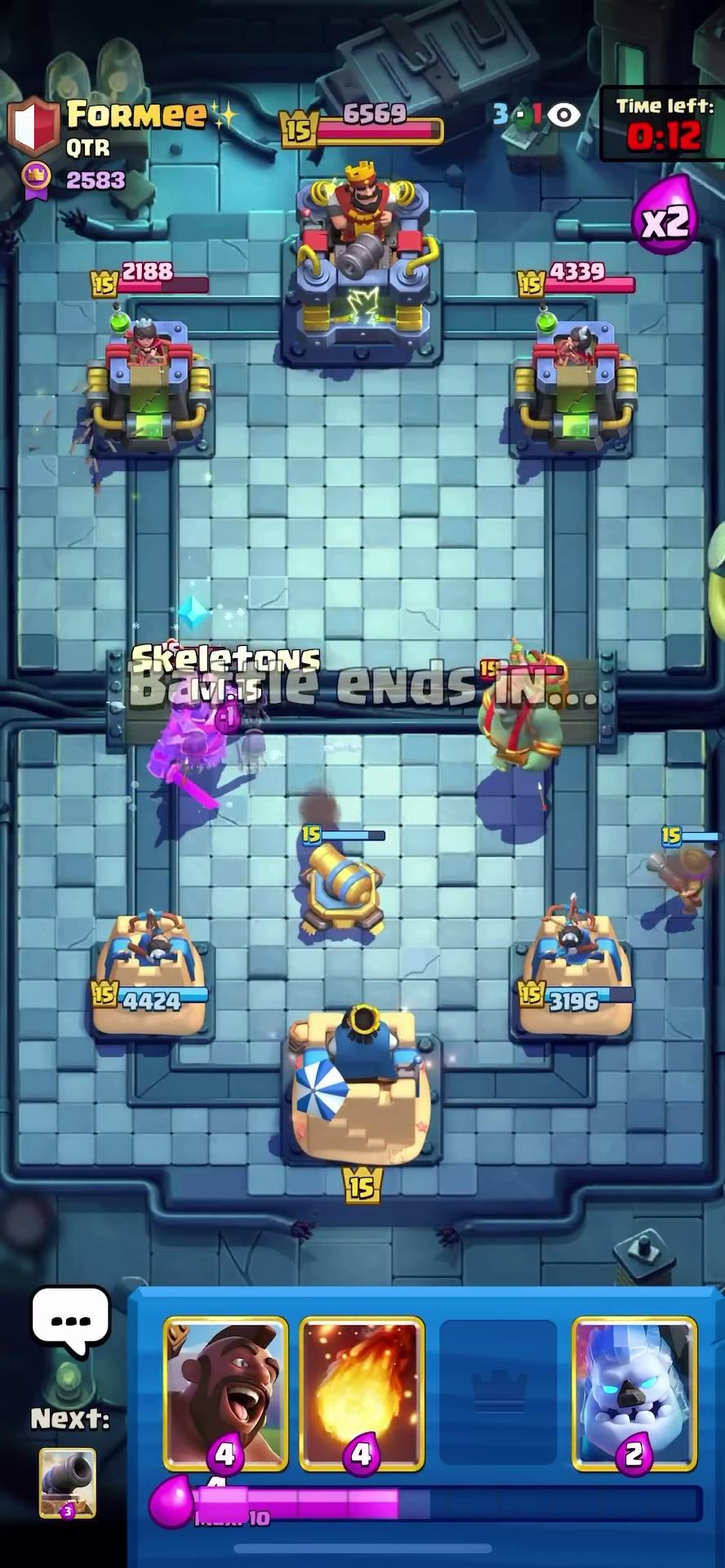cannon: (267, 821, 402, 945)
musketeer: (641, 827, 725, 919)
